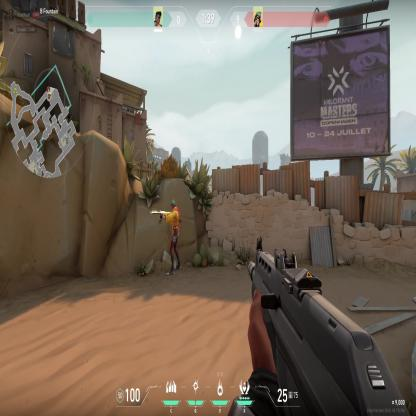enemy: (159, 196, 182, 277)
